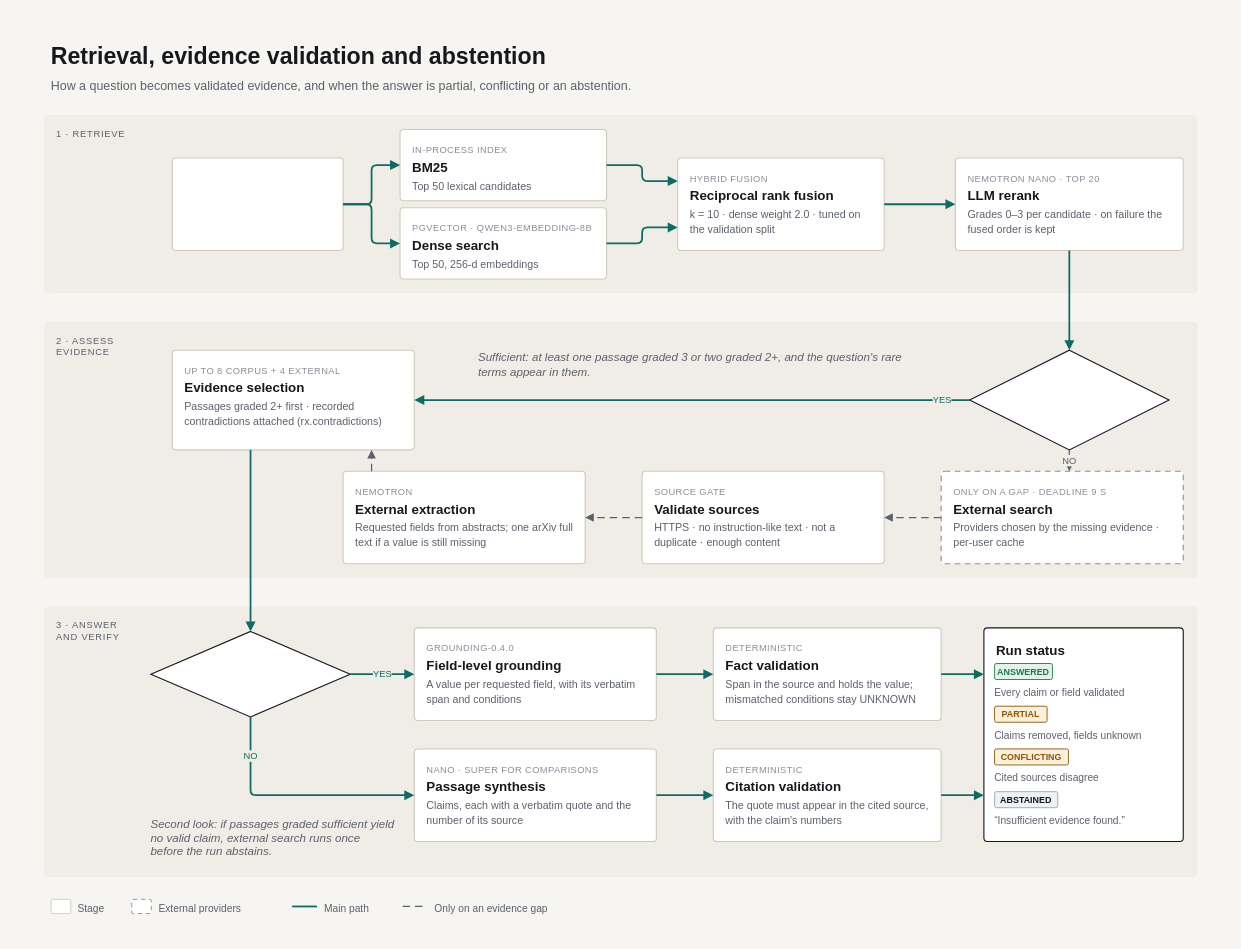
Some shapes in this 1241 by 949 pixel diagram are drawn without their labels. The shapes that lost their labels are listed below. From the top down, each one's centre as x and y in pixels, then its label:
At point 257,204: "PARSED Question Intent · entities · requested fields · metric".
At point 1069,399: "Evidence sufficient?".
At point 250,673: "Parameter or score question?".
